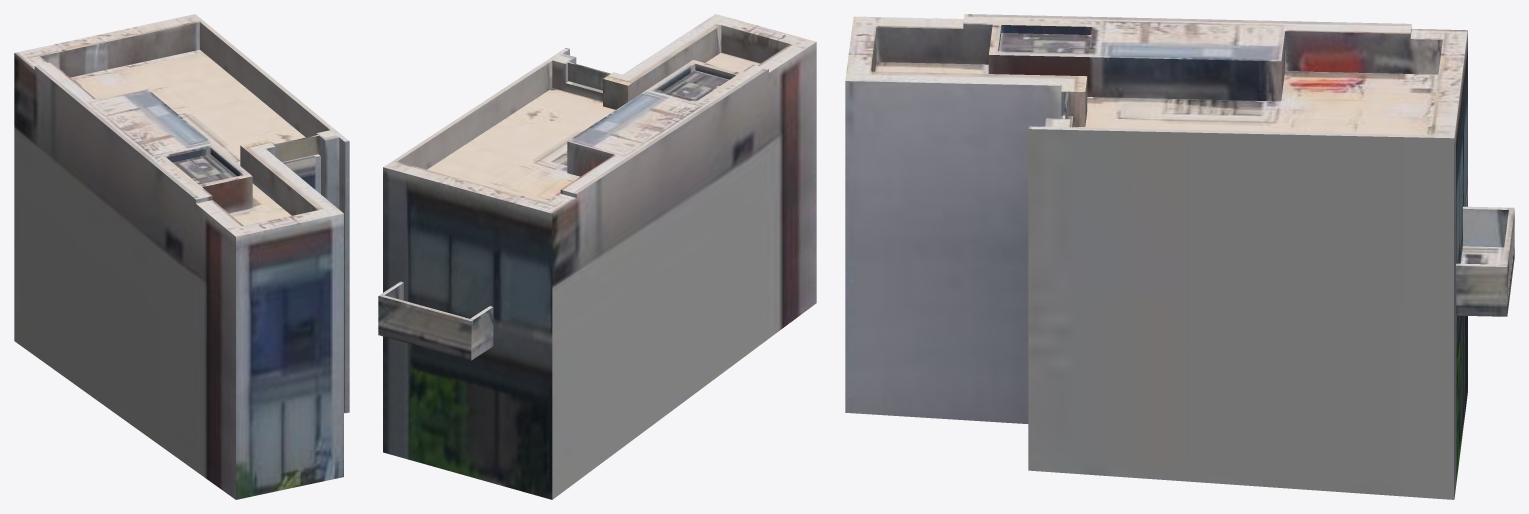
3 views of the same model, side by side, from view 1: azimuth 30°, elevation 25°; view 2: azimuth 150°, elevation 25°; view 3: azimuth 270°, elevation 25° (orthographic). The views are drawn at different scales.
Parts seen in each view (by area): view 1: B285424034001062A0; view 2: B285424034001062A0; view 3: B285424034001062A0.
Part boxes in pixels (x1,y1,x2,y2): B285424034001062A0: [14, 14, 349, 499]; B285424034001062A0: [378, 14, 816, 499]; B285424034001062A0: [845, 14, 1514, 499].
Bounding box in the file's own units: 7.03 × 9.91 × 16.34.
Materials: 1 (1 with a texture image).
